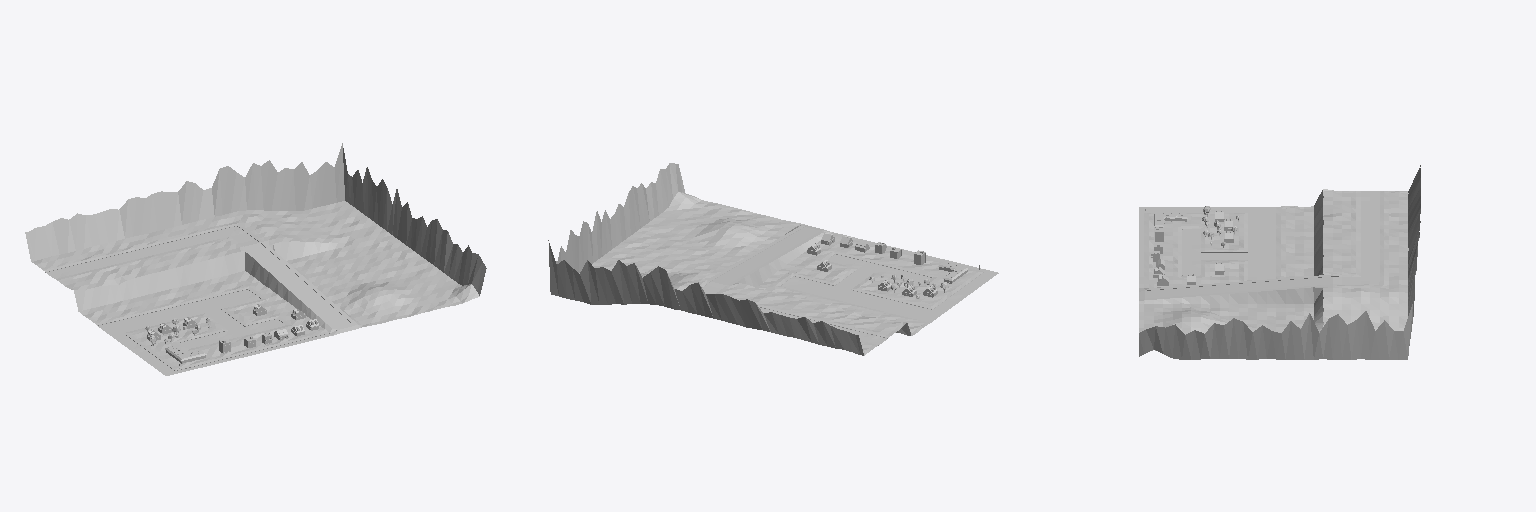
The model's file is city_ne.obj.
The picture shows the model from 3 angles: view 1: azimuth 30°, elevation 25°; view 2: azimuth 150°, elevation 25°; view 3: azimuth 270°, elevation 25°; orthographic projection.
Size of the model in its own units: 473 by 84.16 by 361.